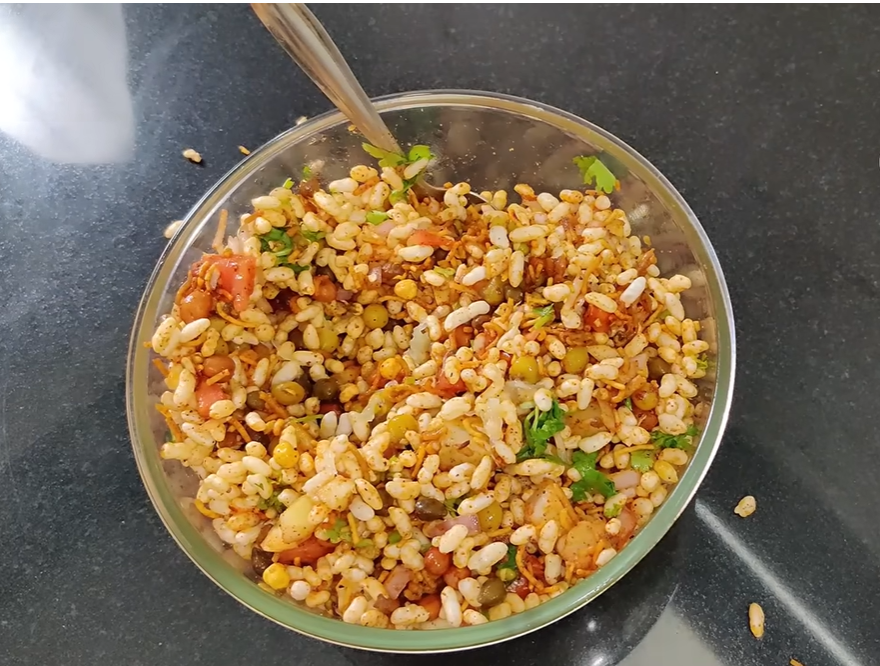chatpate: (199, 200, 651, 566)
